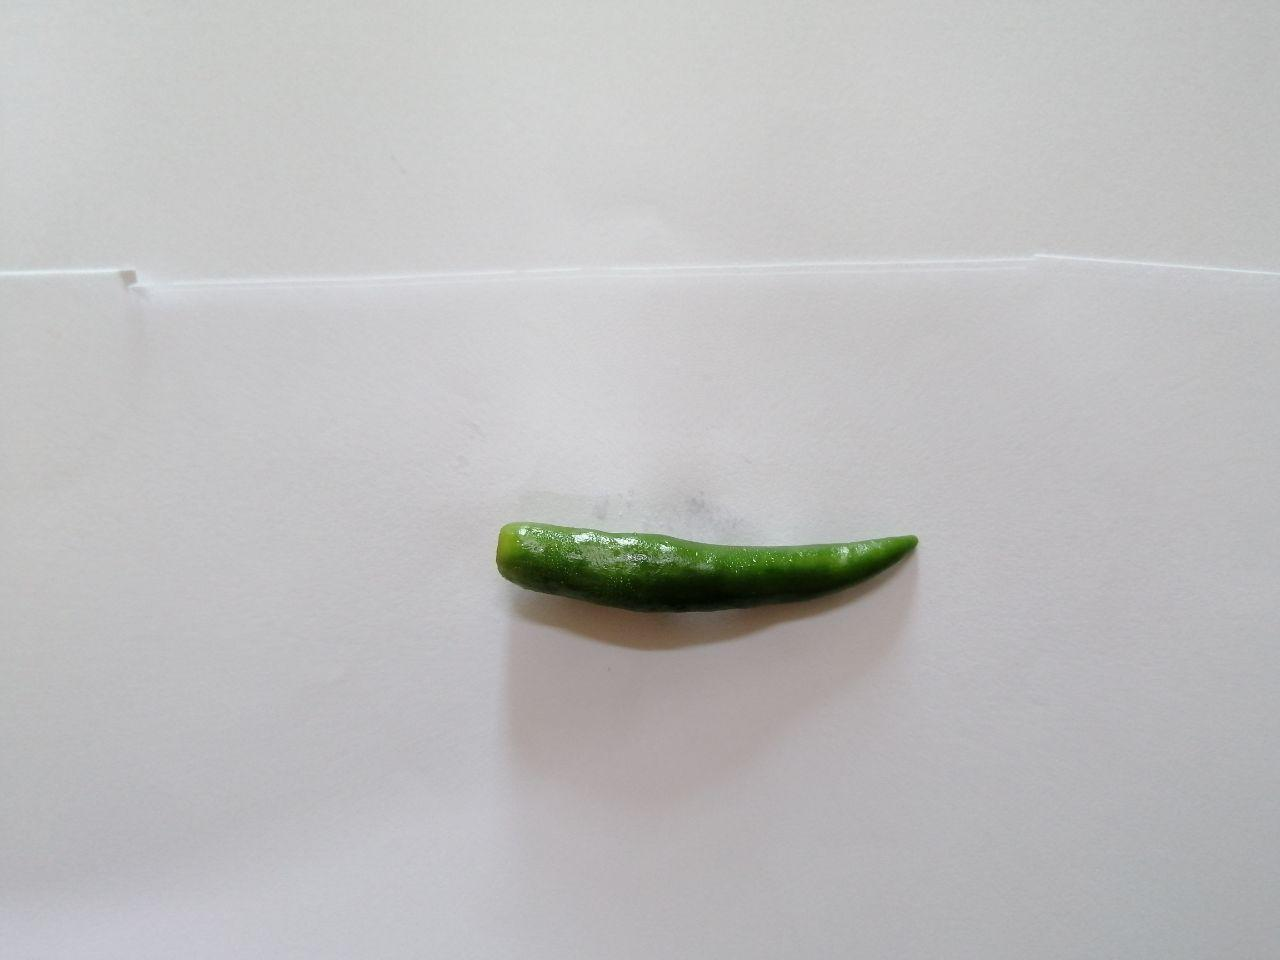lada hijau: (483, 489, 958, 656)
